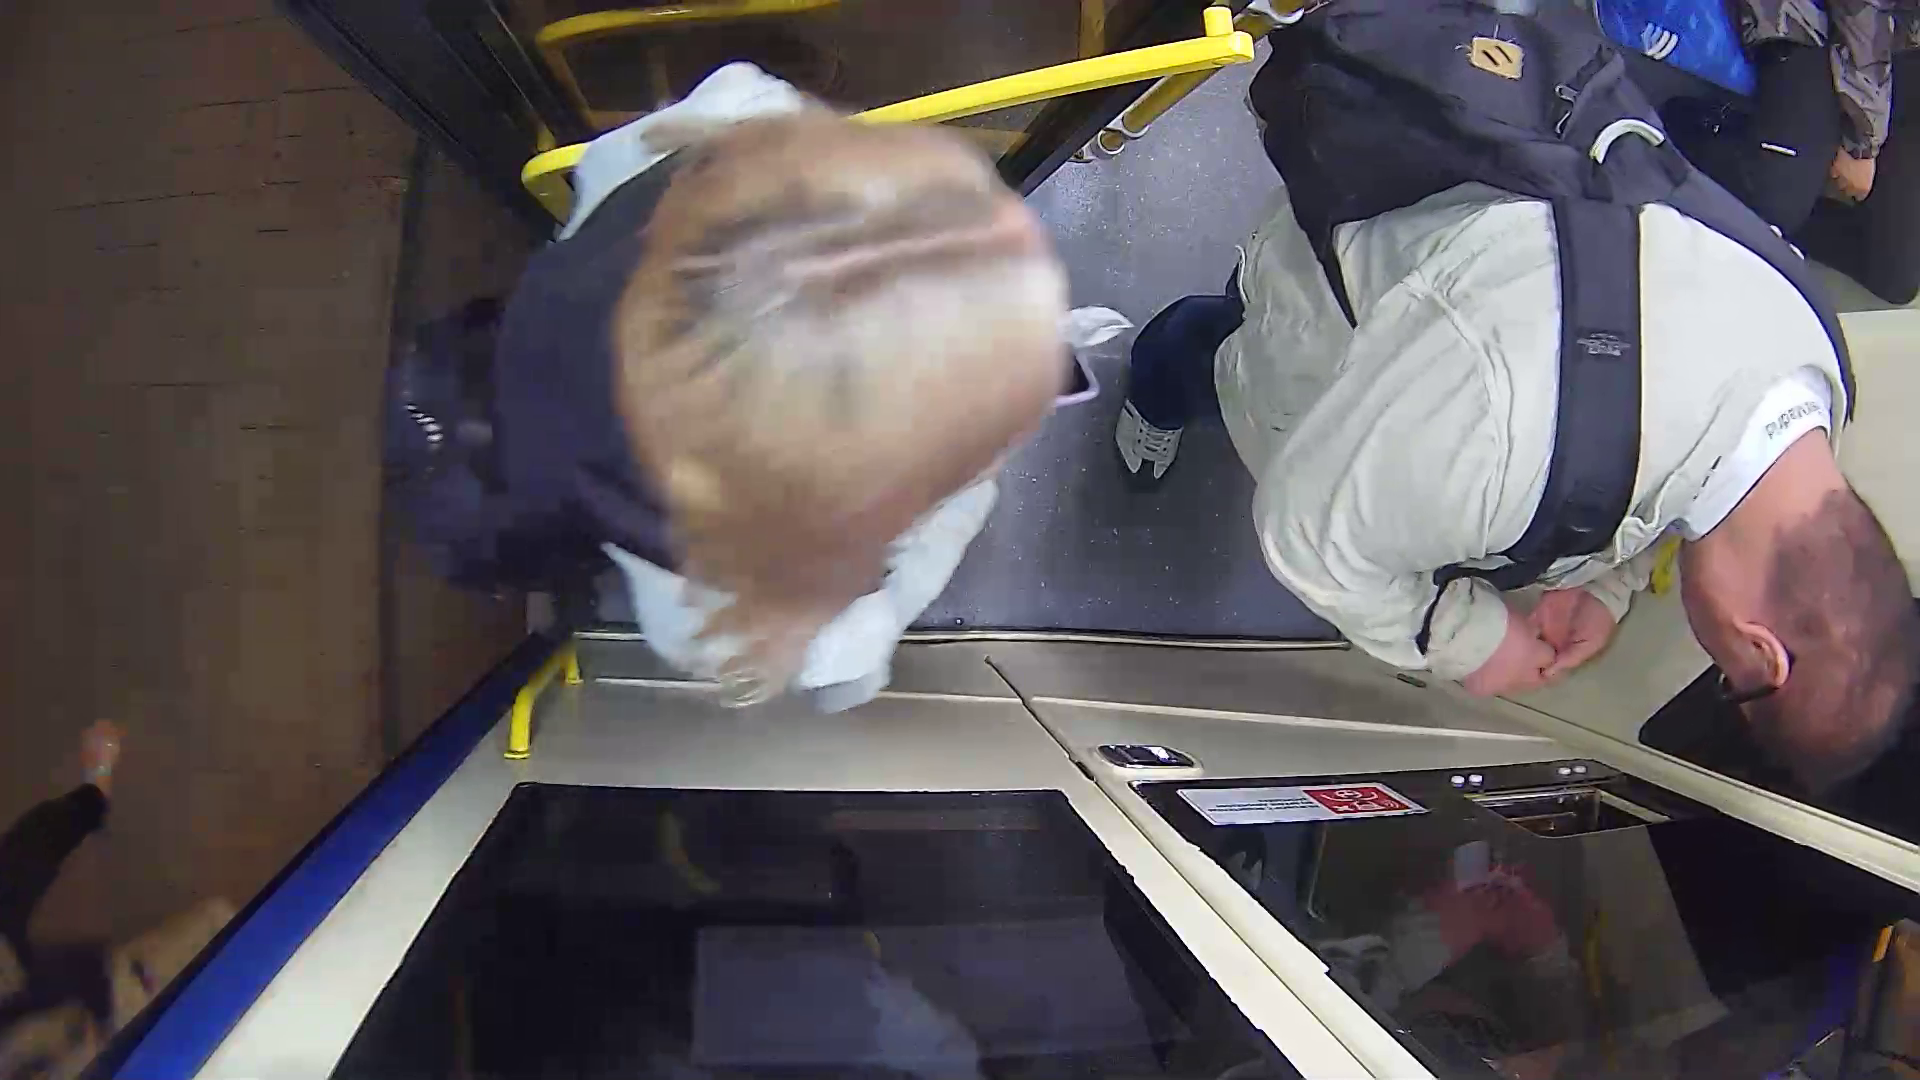person: (1207, 181, 1893, 779), (463, 94, 1055, 720)
